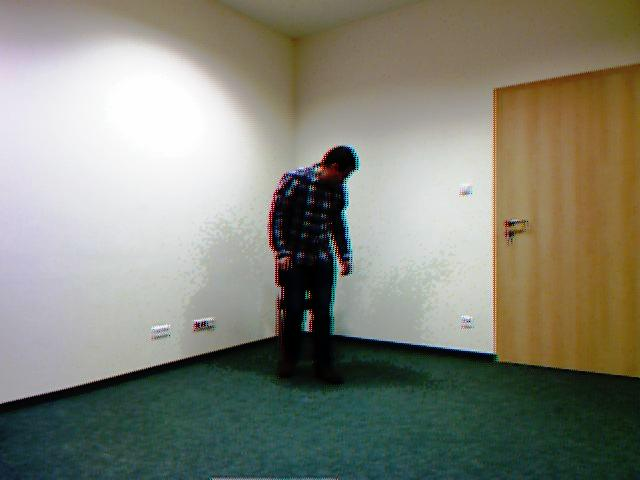walking: (264, 132, 358, 392)
